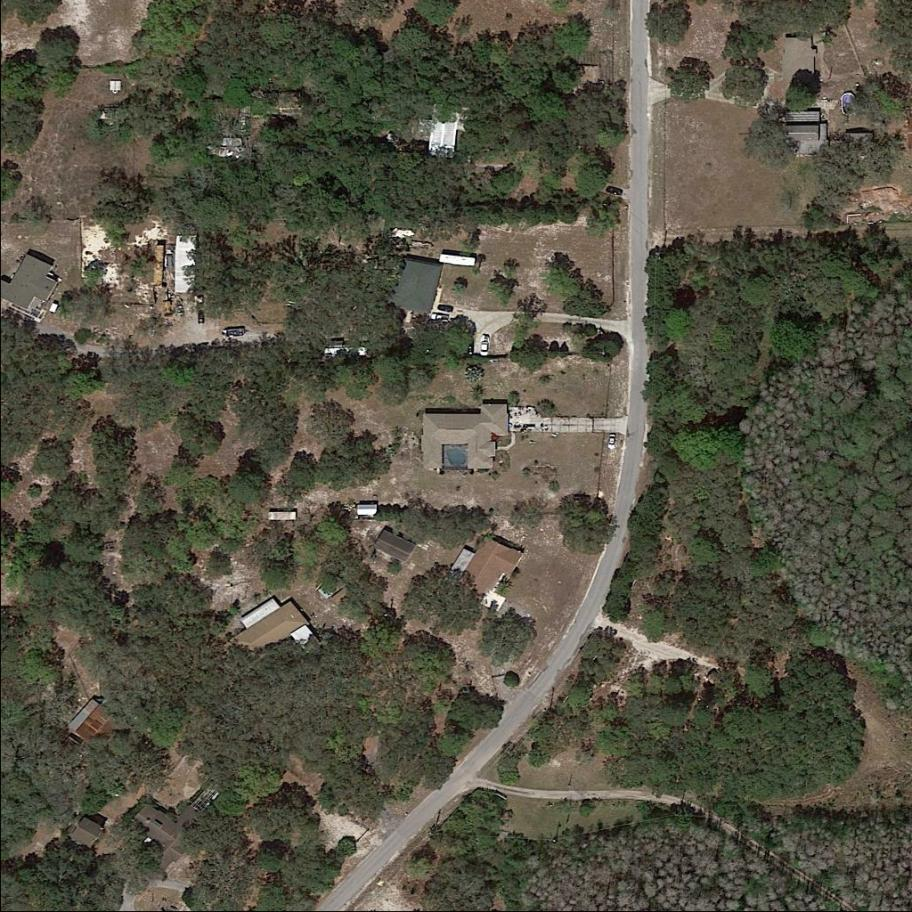large-vehicle: (221, 327, 246, 340), (430, 313, 450, 322)
small-vehicle: (605, 183, 624, 199), (436, 303, 455, 313), (607, 434, 617, 451), (481, 341, 490, 356), (197, 310, 205, 325)
